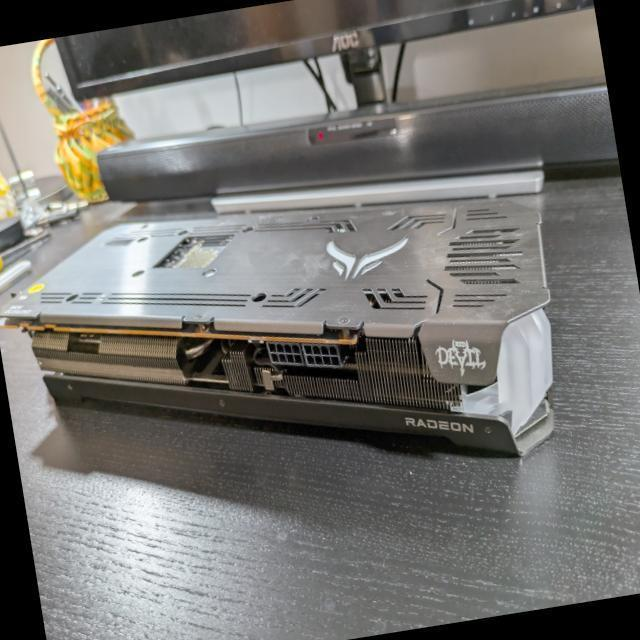GPU: (0, 197, 557, 462)
